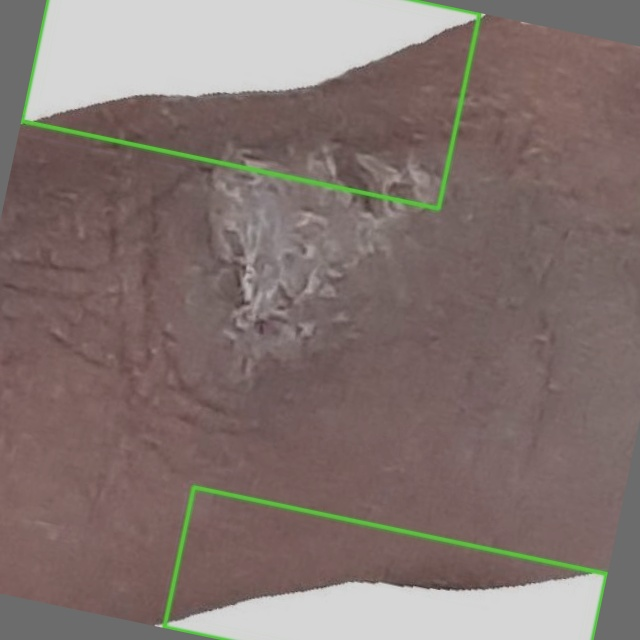Contact Dermatitis: (22, 0, 479, 208), (163, 486, 606, 639)
